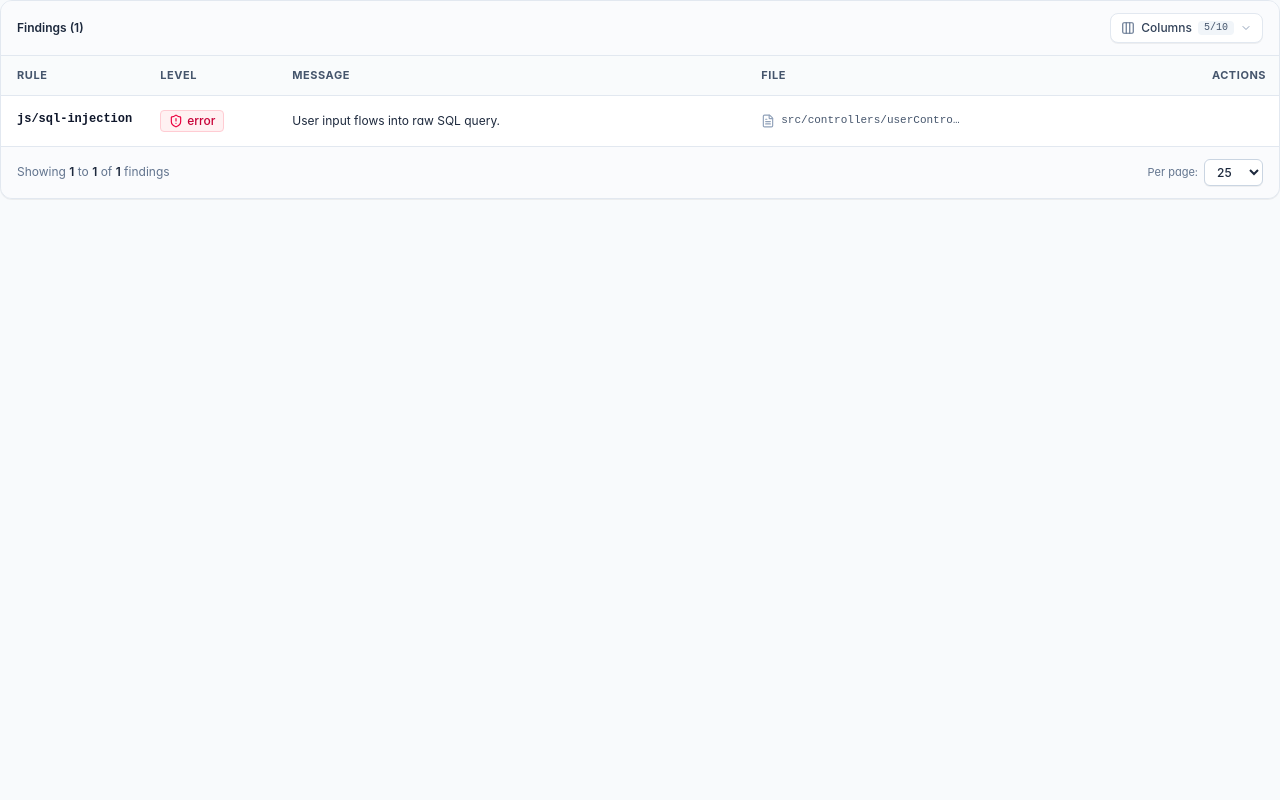
Test: FindingsTable Component & Column Customization › opens column customizer popover and shows column list
This screenshot has width=1280, height=800.
Click the button "Columns 5/10".
click(1187, 28)  # box left=1110, top=13, right=1263, bottom=43
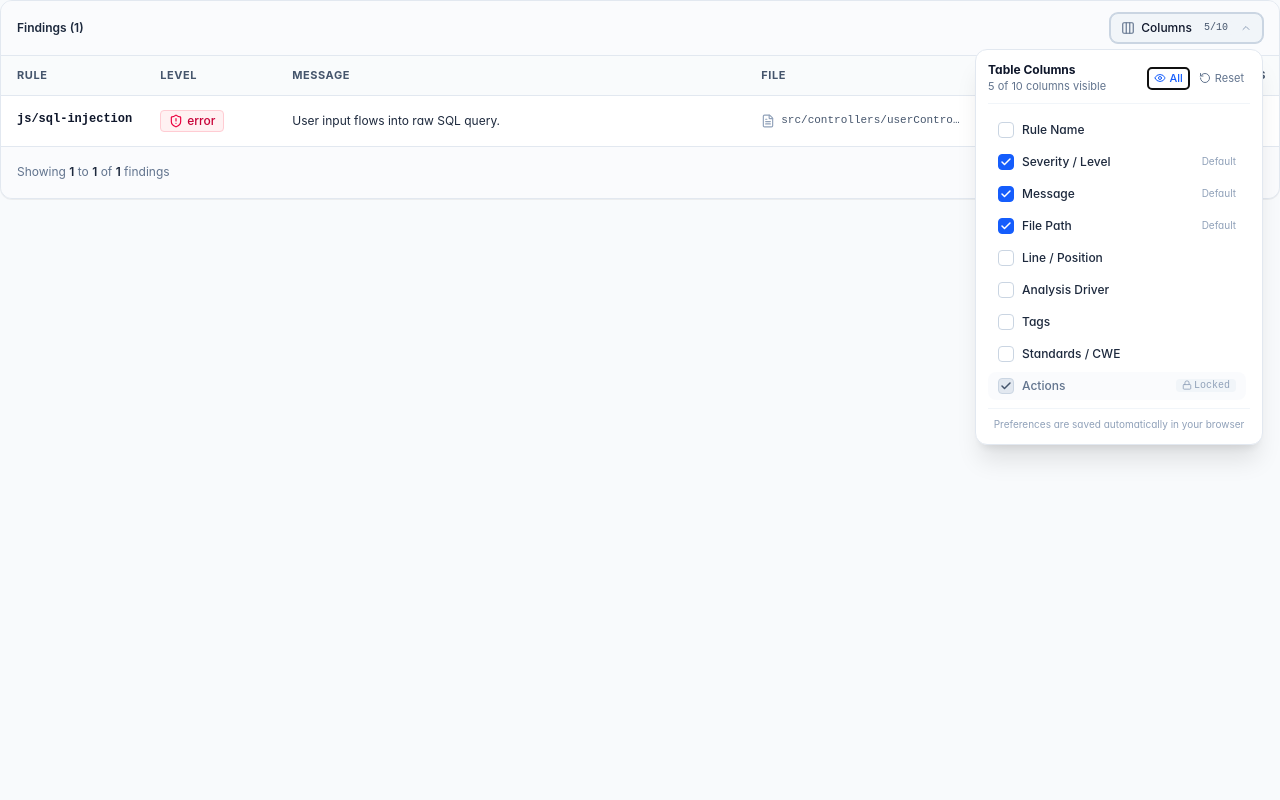
Check: the text "Table Columns" is shown, box left=988, top=62, right=1076, bottom=77
Check: the text "5 of 10 columns visible" is shown, box left=988, top=78, right=1106, bottom=94
Check: the text "Rule Name" is shown, box left=1022, top=122, right=1084, bottom=138
